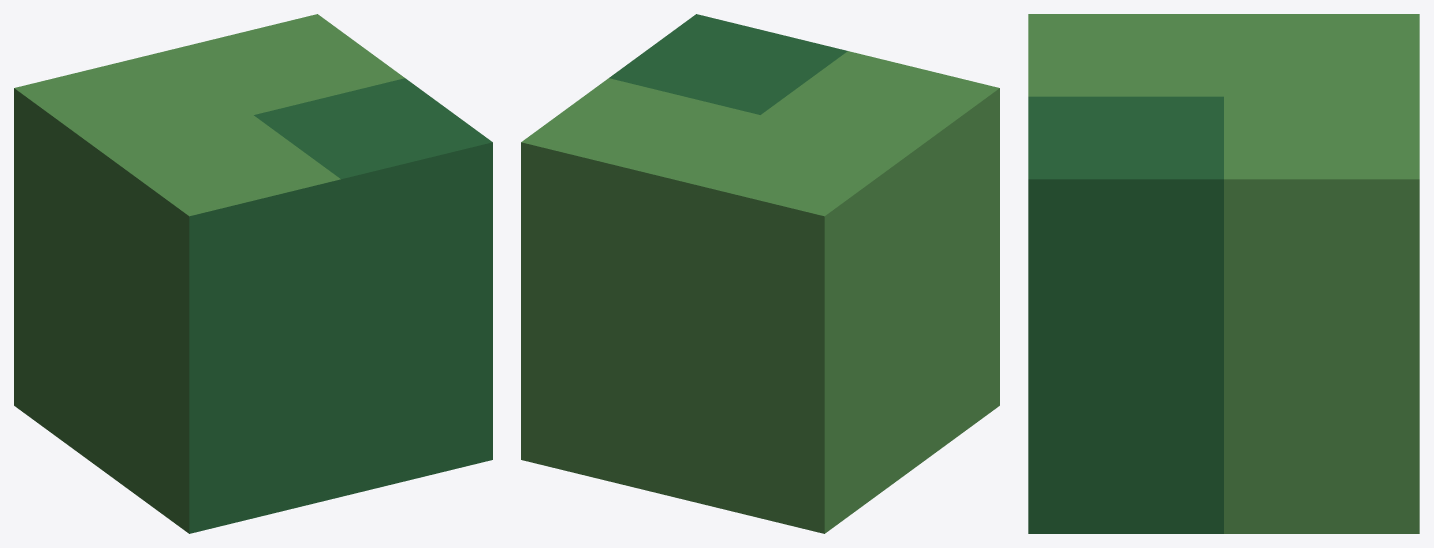
The model's file is ForestExtGrass(MODEL).fbx.
3 renders of one model, left to right at view 1: azimuth 30°, elevation 25°; view 2: azimuth 150°, elevation 25°; view 3: azimuth 270°, elevation 25°, orthographic. The views are drawn at different scales.
Parts seen in each view (by area): view 1: GGFFGGTile; view 2: GGFFGGTile; view 3: GGFFGGTile.
Boxes of the visible parts, x1,y1,x2,y2 form: GGFFGGTile: [14, 14, 492, 533]; GGFFGGTile: [521, 14, 999, 533]; GGFFGGTile: [1028, 14, 1419, 533].
Bounding box in the file's own units: 200 × 200 × 200.
